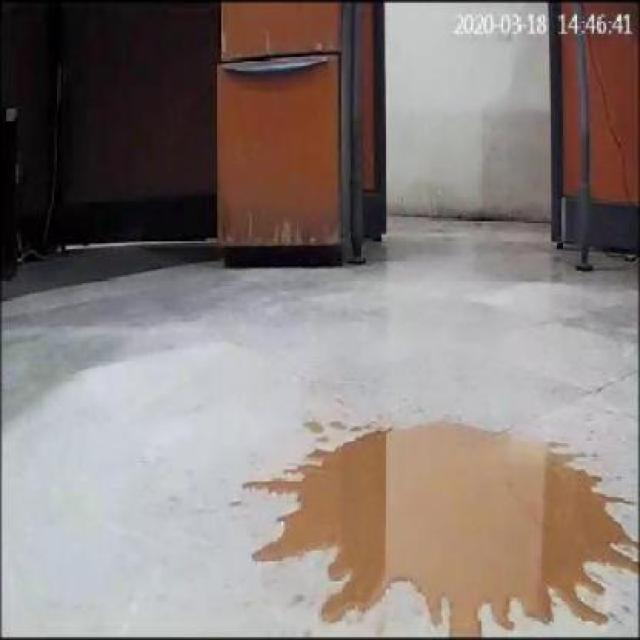spillage: (244, 423, 637, 634)
